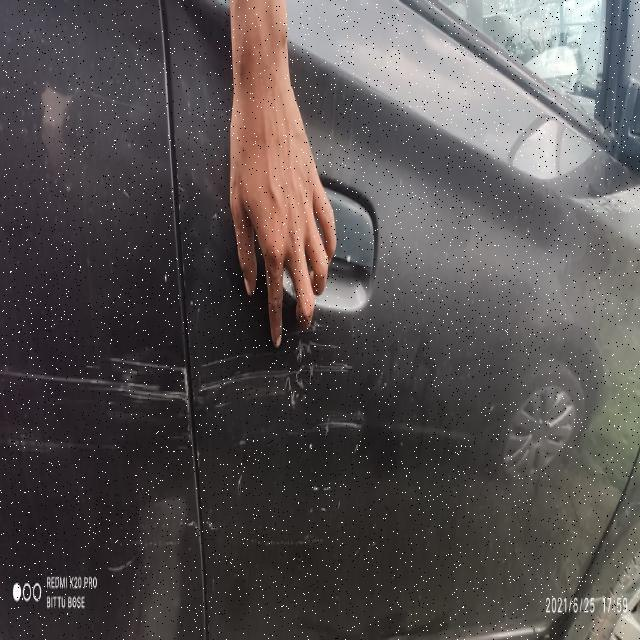doorouter-dent: (199, 2, 584, 626), (0, 0, 200, 624)
